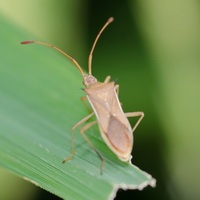insect: (21, 17, 143, 173)
